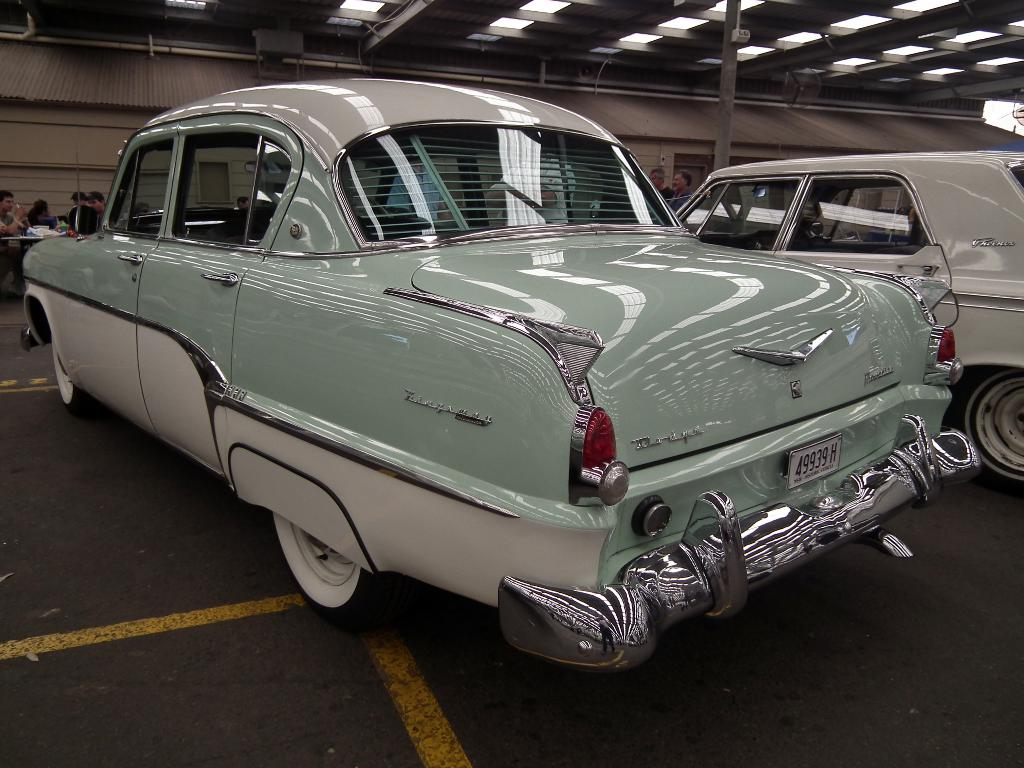Car: (26, 76, 978, 695), (677, 150, 1023, 489)
